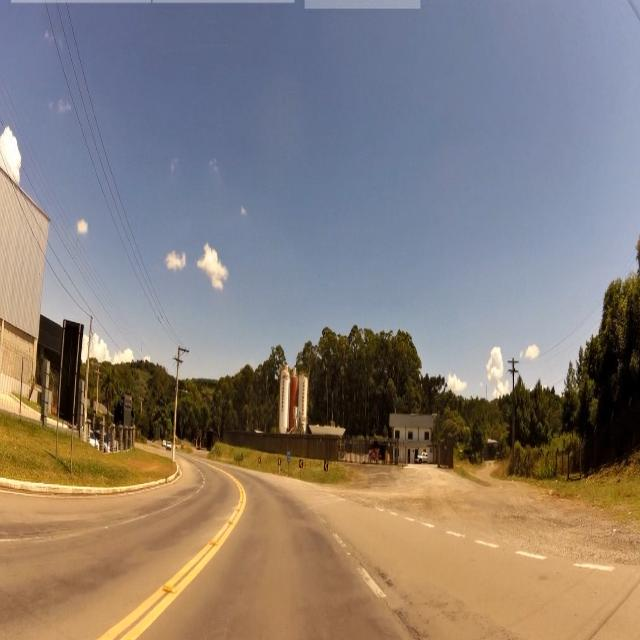Del: (324, 460, 328, 472), (298, 459, 302, 469)
